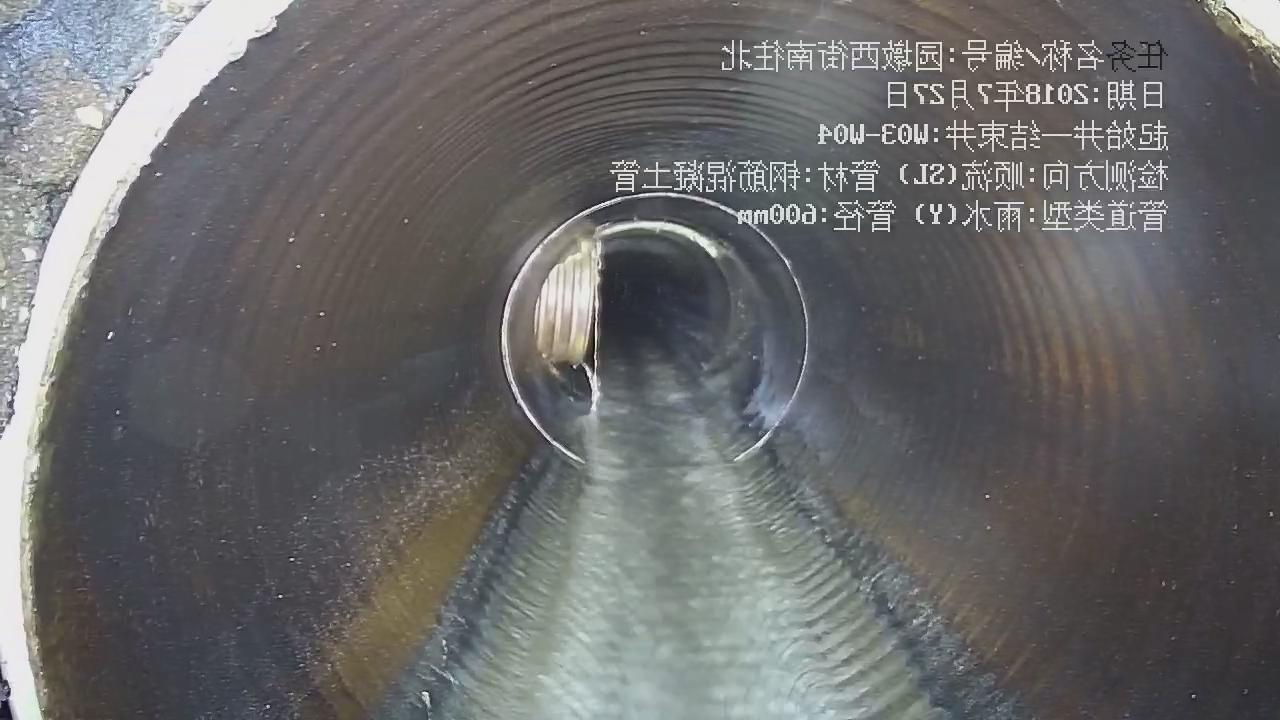CKTJ: (1, 0, 292, 719), (501, 192, 809, 460), (594, 219, 722, 259)
ZGAJ: (534, 238, 601, 377)
